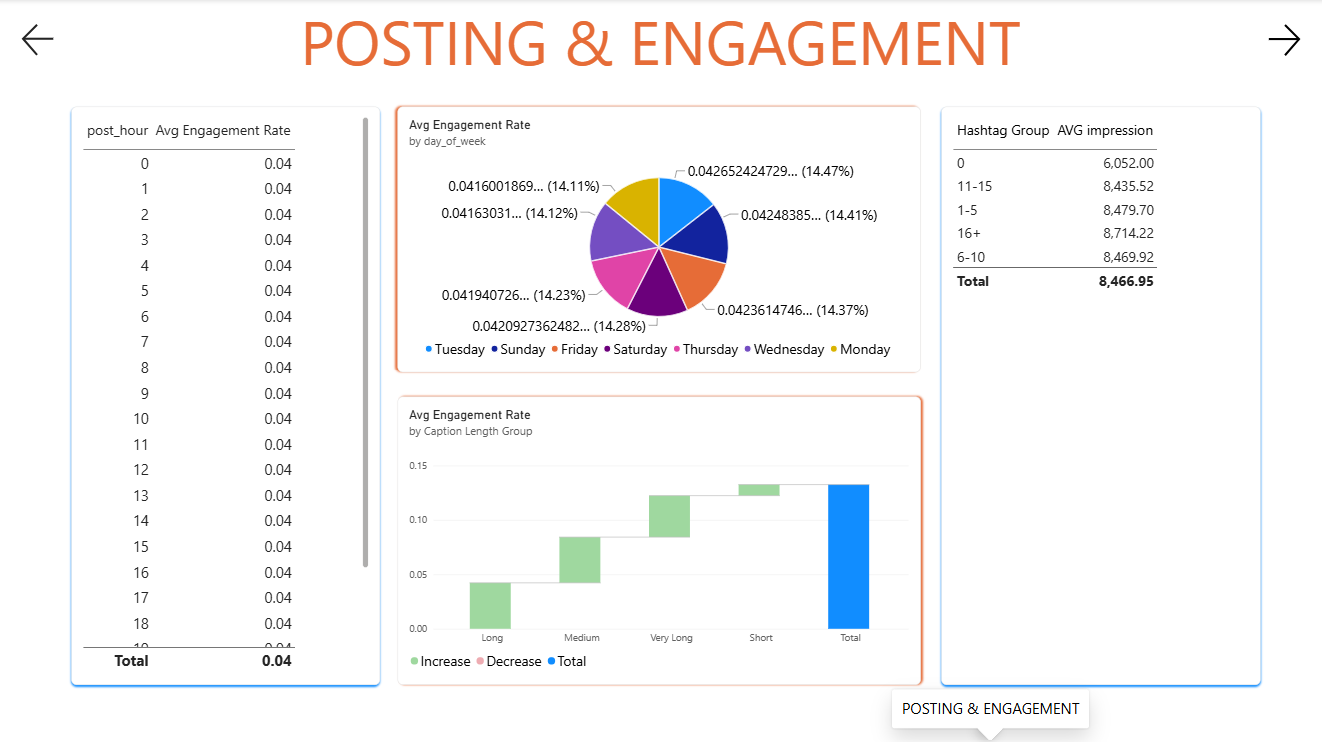

This screenshot's page, from the dashboard's own definition file:
{"tool":"powerbi","page":{"name":"POSTING & ENGAGEMENT","canvas":[1920,1080],"ordinal":4},"visuals":[{"type":"textbox","box":[160.7,0,1590.3,125.2],"z":0},{"type":"tableEx","title":"Average Engagement rate ","fields":{"Values":["Instagram_Analytics.post_hour","Instagram_Analytics.Avg Engagement Rate"]},"box":[102.5,155,447.5,837.5],"z":1000},{"type":"pieChart","fields":{"Category":["Instagram_Analytics.day_of_week"],"Y":["Instagram_Analytics.Avg Engagement Rate"]},"box":[575,155,757.5,385],"z":2000},{"type":"waterfallChart","fields":{"Category":["Instagram_Analytics.Caption Length Group"],"Y":["Instagram_Analytics.Avg Engagement Rate"]},"box":[575,575,757.5,417.5],"z":3000},{"type":"tableEx","title":"AVG impression ","fields":{"Values":["Instagram_Analytics.Hashtag Group","Instagram_Analytics.AVG impression"]},"box":[1362.8,156.5,462.5,837.5],"z":4000},{"type":"actionButton","box":[1796.9,29.2,123.1,60.5],"z":5000},{"type":"actionButton","box":[6,18,100,82],"z":6000}]}

Visuals, with their boxes in screenshot pixels (x1, y1, x2, y2), scaled from the page's 1920x1080 canvas onto the 1322x742 screenshot:
textbox: l=111, t=0, r=1206, b=86
"Average Engagement rate " tableEx: l=71, t=106, r=379, b=682
pieChart - Instagram_Analytics.day_of_week x Instagram_Analytics.Avg Engagement Rate: l=396, t=106, r=917, b=371
waterfallChart - Instagram_Analytics.Caption Length Group x Instagram_Analytics.Avg Engagement Rate: l=396, t=395, r=917, b=682
"AVG impression " tableEx: l=938, t=108, r=1257, b=683
actionButton: l=1237, t=20, r=1321, b=62
actionButton: l=4, t=12, r=73, b=69
